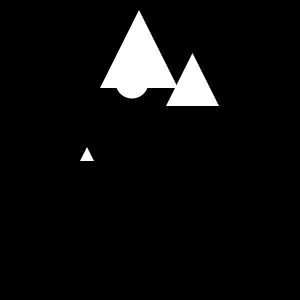rectangle: (116, 66, 148, 98)
triangle: (100, 10, 178, 88), (166, 53, 219, 106), (80, 147, 94, 161)
